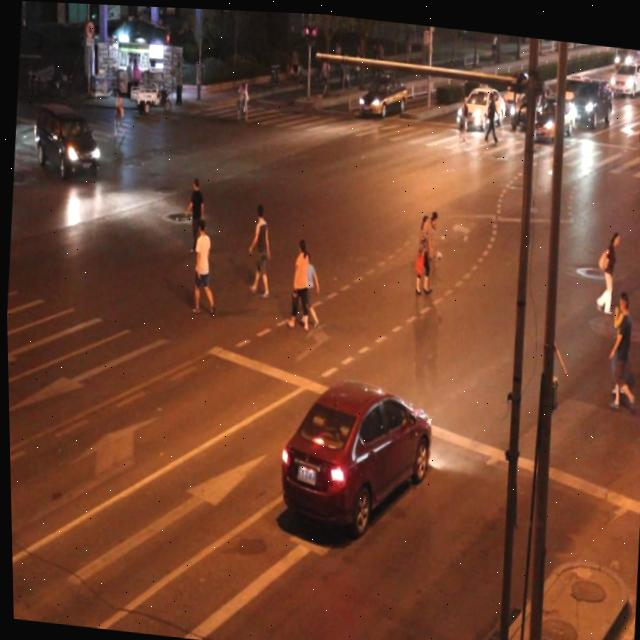car: (271, 369, 433, 540), (30, 99, 102, 179)
